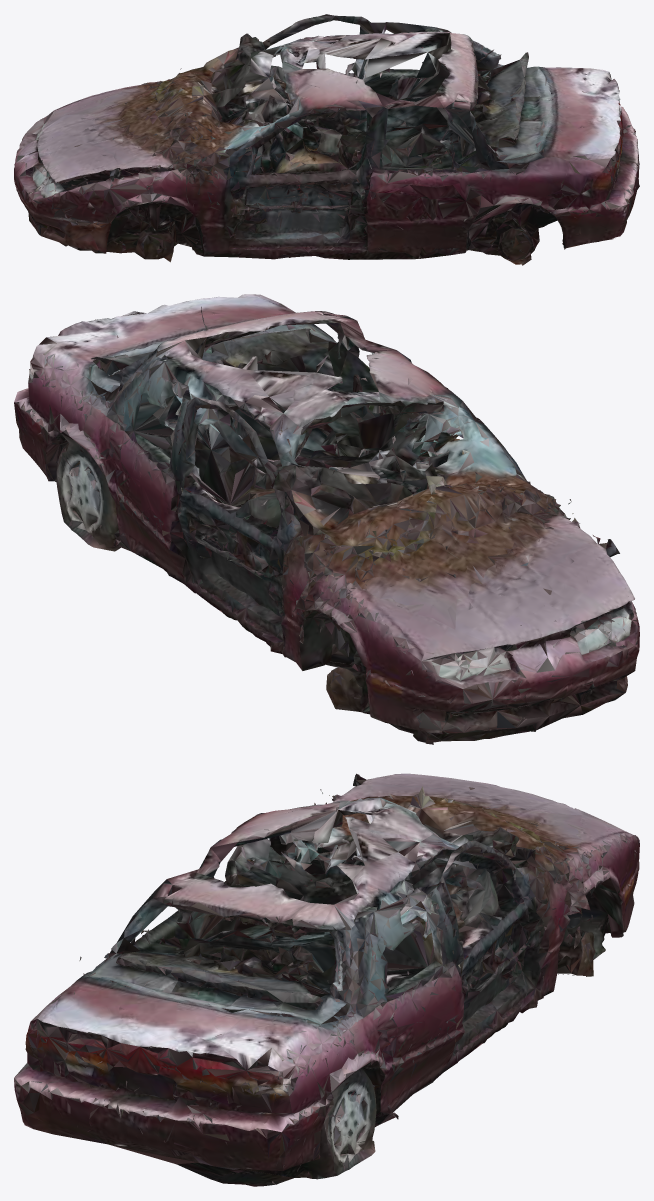
The model's file is car_scan_06.glb.
3 renders of one model, top to bottom at view 1: azimuth 30°, elevation 25°; view 2: azimuth 150°, elevation 25°; view 3: azimuth 270°, elevation 25°, orthographic. The views are drawn at different scales.
Parts seen in each view (by area): view 1: Object_2; view 2: Object_2; view 3: Object_2.
Part boxes in pixels (x1,y1,x2,y2): Object_2: (14,14,639,265); Object_2: (14,294,639,744); Object_2: (14,773,639,1186).
Bounding box in the file's own units: 4.58 × 1.39 × 3.46.
1 material, 1 textured.
